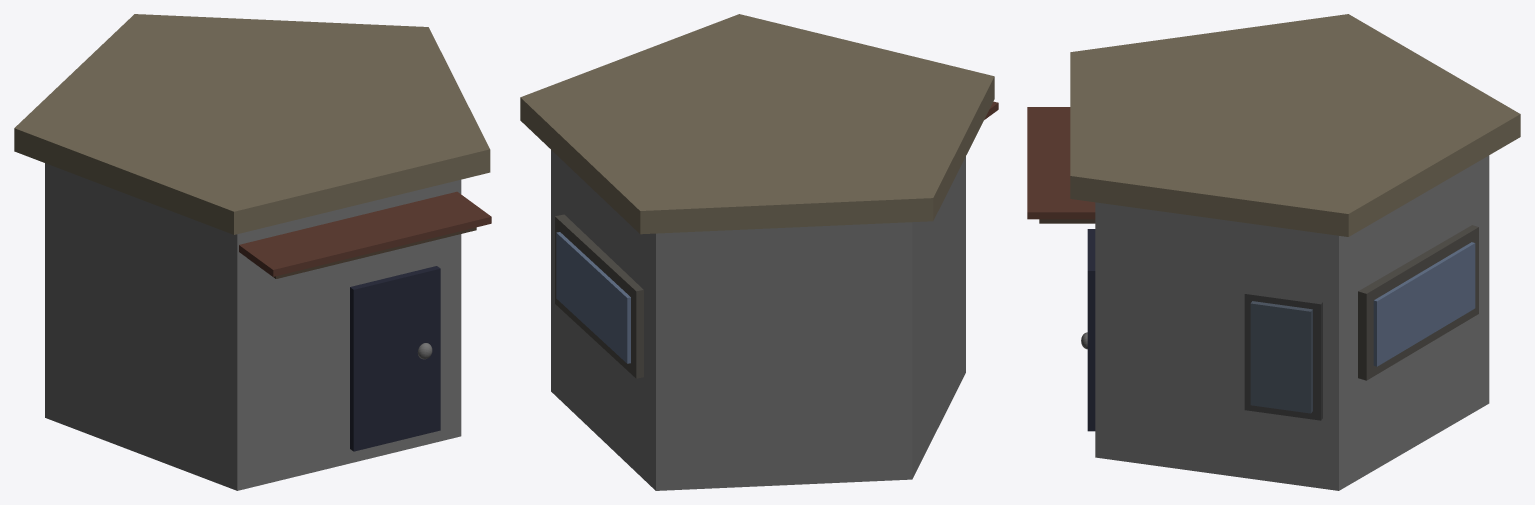
File: UACStorageRoom1.fbx
3 views of the same model, side by side, from view 1: azimuth 30°, elevation 25°; view 2: azimuth 150°, elevation 25°; view 3: azimuth 270°, elevation 25° (orthographic).
Parts seen in each view (by area): view 1: Cone, Cone.001, Cube, Cube.005, Cube.006; view 2: Cone, Cone.001, Cube.002, Cube.001; view 3: Cone, Cone.001, Cube.002, Cube.004, Cube.005, Cube.001, Cube.003, Cube.
Part boxes in pixels (x1,y1,x2,y2): Cone: (45,163,461,490); Cone.001: (14,14,490,234); Cube: (350,266,440,451); Cube.005: (239,191,491,276); Cube.006: (250,227,476,278); Cone: (551,150,965,490); Cone.001: (520,14,994,234); Cube.002: (556,232,630,363); Cube.001: (555,214,643,378); Cone: (1095,155,1489,490); Cone.001: (1070,14,1520,236); Cube.002: (1373,242,1475,366); Cube.004: (1250,301,1312,413); Cube.005: (1027,107,1095,219); Cube.001: (1358,225,1478,380); Cube.003: (1244,291,1322,420); Cube: (1087,229,1095,431).
Size of the model in its own units: 2237 by 1508 by 2330.
